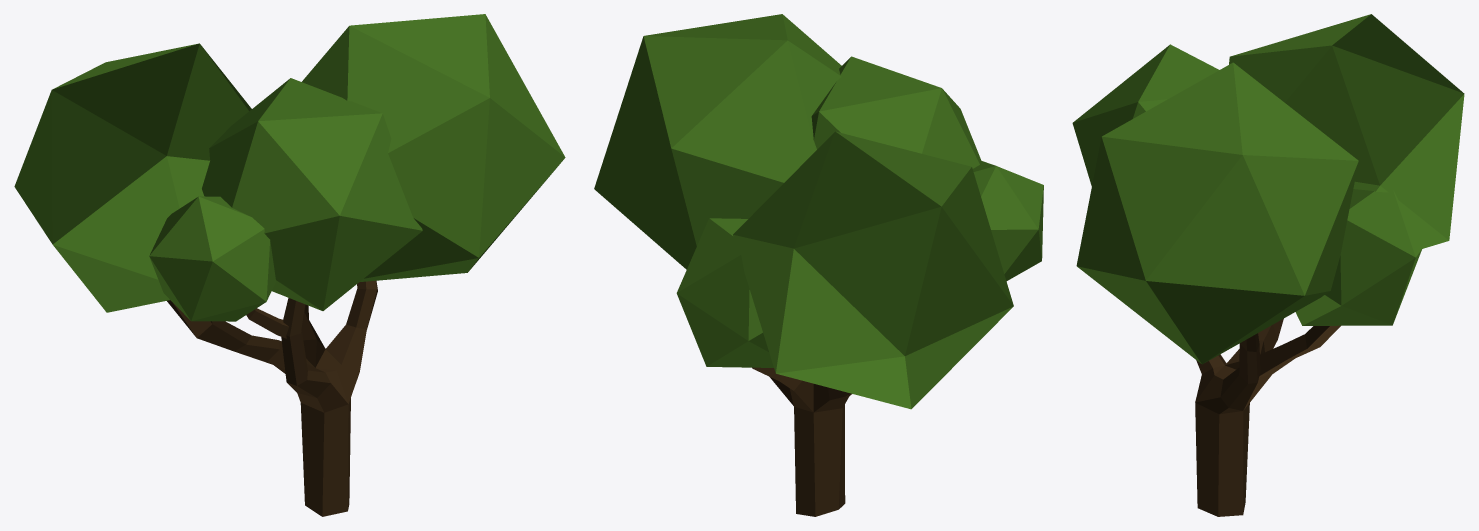
Rendered from tree 2.fbx.
3 views of the same model, side by side, from view 1: azimuth 30°, elevation 25°; view 2: azimuth 150°, elevation 25°; view 3: azimuth 270°, elevation 25° (orthographic). The views are drawn at different scales.
Parts seen in each view (by area): view 1: Default002; view 2: Default002; view 3: Default002.
Boxes of the visible parts, left/top/right/bottom form: Default002: left=14, top=14, right=565, bottom=516; Default002: left=594, top=14, right=1043, bottom=516; Default002: left=1072, top=14, right=1464, bottom=516.
Bounding box in the file's own units: 10.77 × 11.19 × 8.66.
